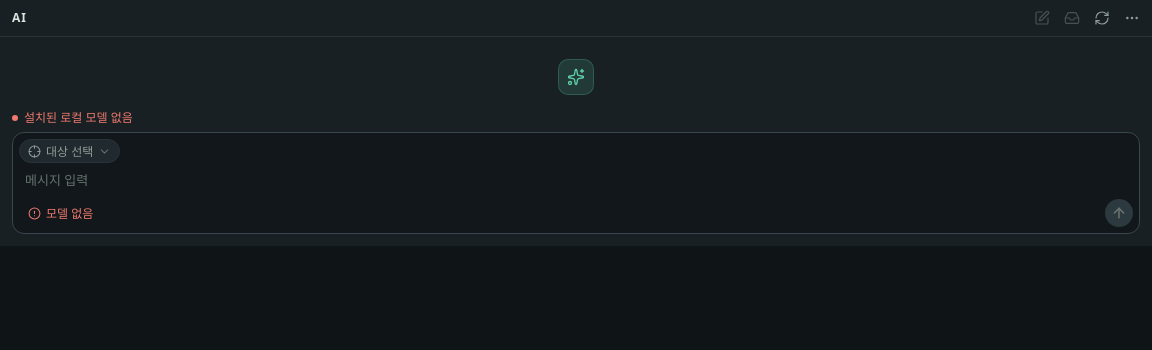
Test: opens a CLI card without a model and records 승인 only after a click
expect the button named "CLI 제안 가져오기" is disabled: met, box [1058,4,1086,32]
Click the button "대상 선택" at (70,151), box [19,139,120,163]
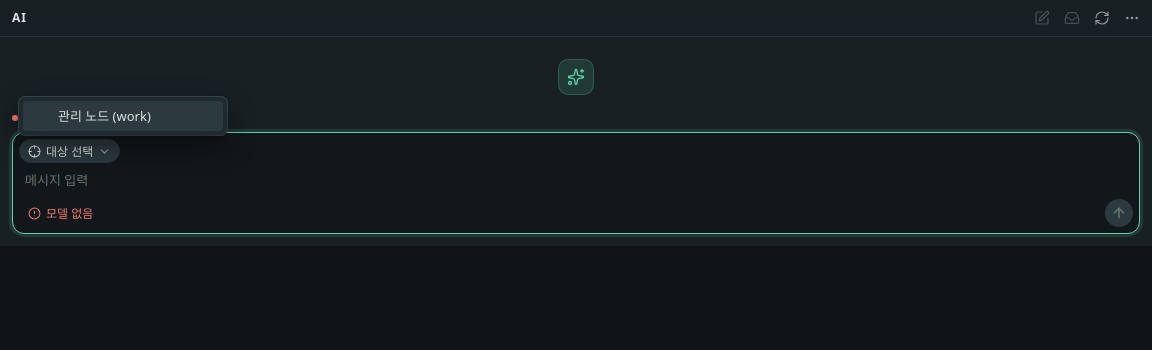
expect the menu item "관리 노드 (work)" is shown: met
Click the menu item "관리 노드 (work)" at (123,116), box [23,101,223,131]
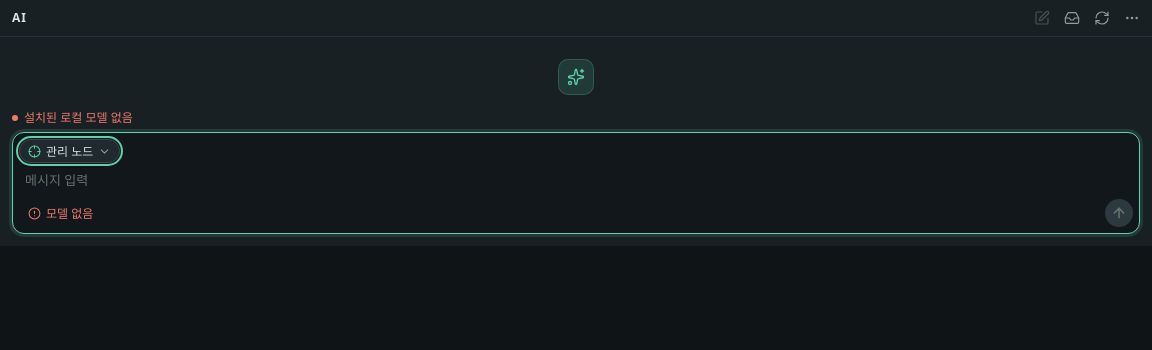
Click the button named "CLI 제안 가져오기" at (1072,18), box [1058,4,1086,32]
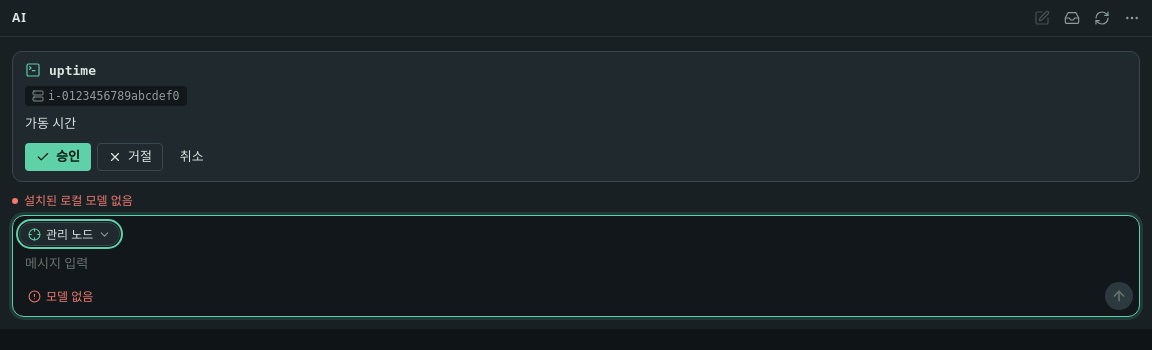
expect the element showing "uptime i-0123456789abcdef0 가동 시간 승인 거절 취소" is shown: met, box [12,51,1140,182]
Click the button "승인" at (58,157), box [25,143,91,171]
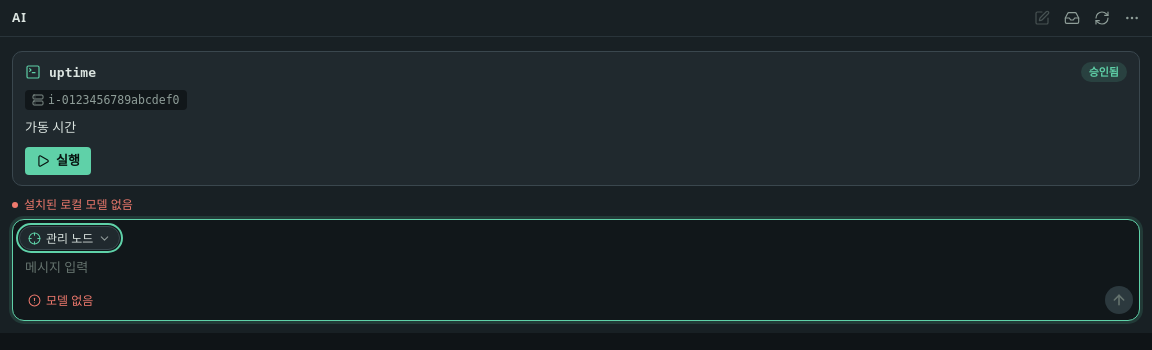
expect the message "승인됨" is shown: met, box [1081,62,1127,82]
